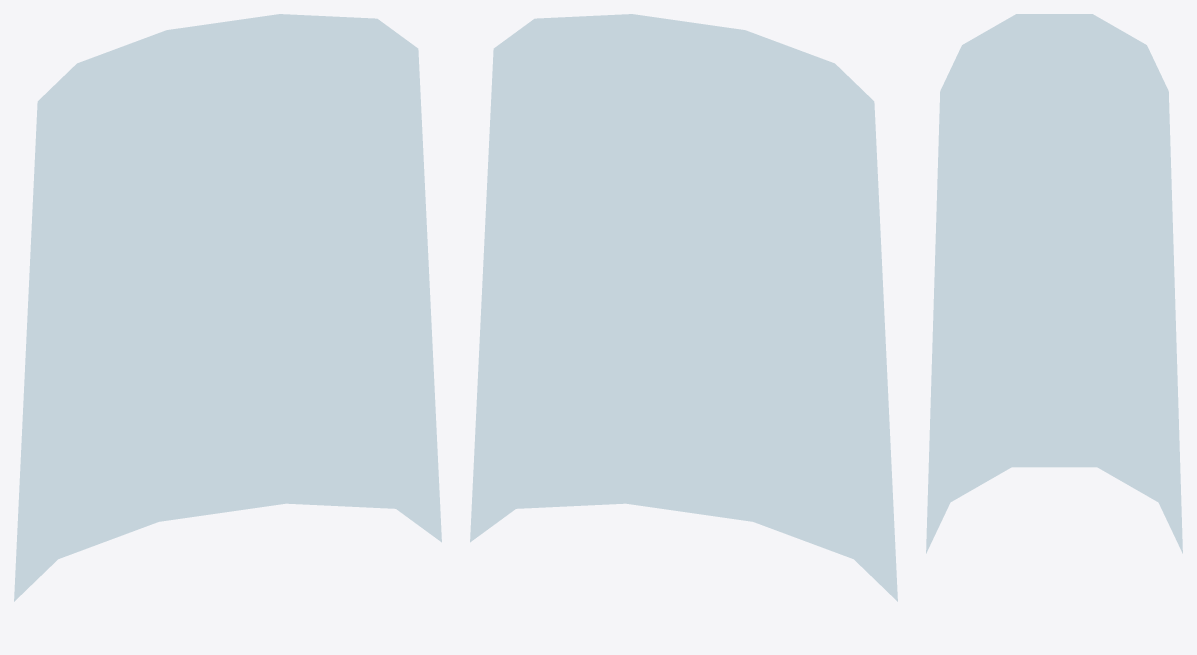
File: 04d2_Rain.glb
The picture shows the model from 3 angles, left to right: view 1: azimuth 30°, elevation 25°; view 2: azimuth 150°, elevation 25°; view 3: azimuth 270°, elevation 25°; orthographic projection. The views are drawn at different scales.
Visible parts, largest first — view 1: part_0; view 2: part_0; view 3: part_0.
Part boxes in pixels (x1,y1,x2,y2): part_0: [14, 14, 441, 601]; part_0: [470, 14, 897, 601]; part_0: [926, 14, 1182, 553].
Bounding box in the file's own units: 190 × 237 × 119.
Materials: 1 (1 with a texture image).
